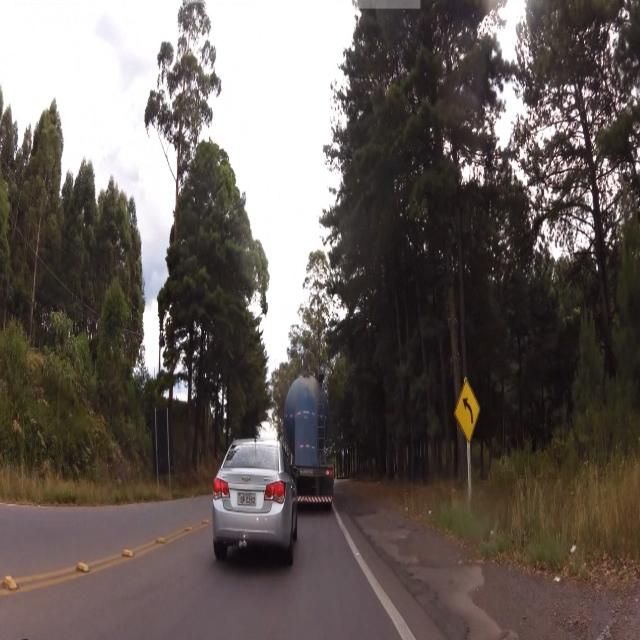A-2a: (453, 372, 483, 442)
